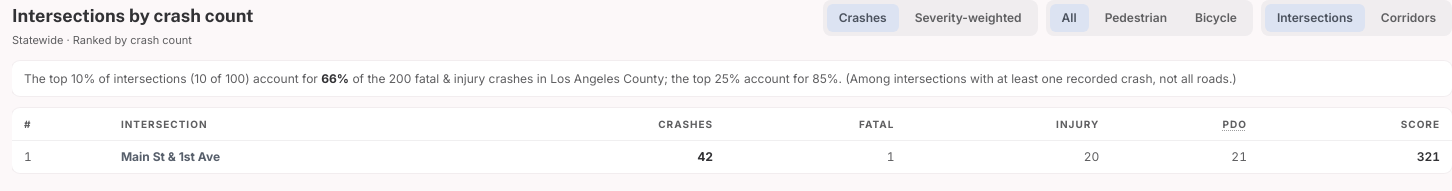
Test: IntersectionsPanel › severity-weighted sort sends sort=severity and shows the Score column
Expected: the link "Main St & 1st Ave" is shown, [121, 149, 220, 164]
Expected: the column heading "Score" is shown, [1259, 108, 1451, 140]
What coordinates should you click on to do the following:
click the radio button labelled "Severity-weighted"
I would click on:
 (968, 18)
Its box is [903, 4, 1034, 32].
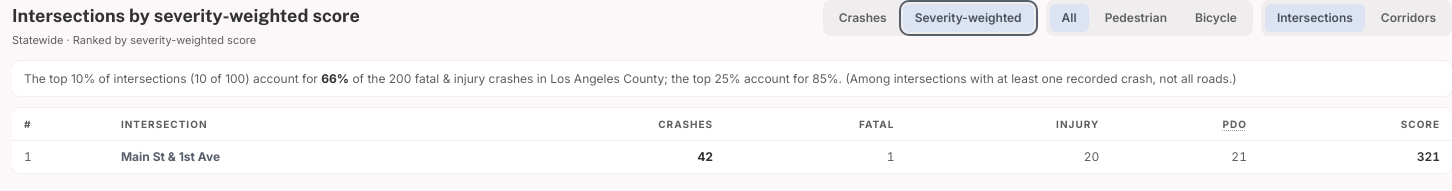
Now the heading "Intersections by severity-weighted score" is shown, box [12, 2, 360, 30]
